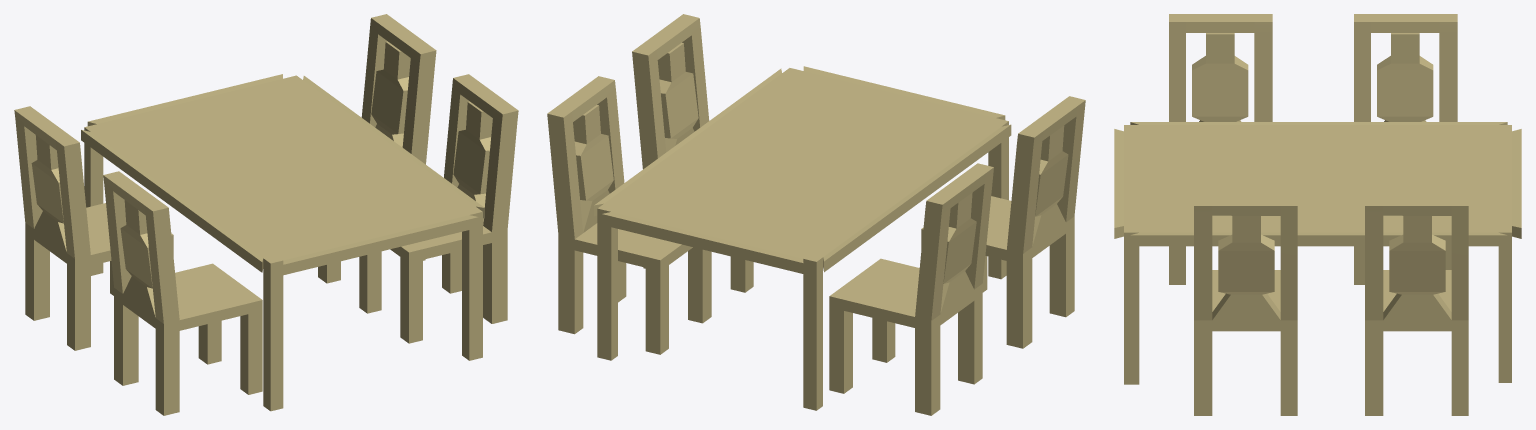
File: Table Chairs.fbx
3 views of the same model, side by side, from view 1: azimuth 30°, elevation 25°; view 2: azimuth 150°, elevation 25°; view 3: azimuth 270°, elevation 25° (orthographic). The views are drawn at different scales.
Visible parts, largest first — view 1: pCube1, pCube2, pCube5, pCube3, pCube4; view 2: pCube1, pCube3, pCube4, pCube2, pCube5; view 3: pCube1, pCube4, pCube5, pCube2, pCube3.
Boxes of the visible parts, x1,y1,x2,y2 form: pCube1: (81,74,484,411); pCube2: (103,171,262,415); pCube5: (359,74,518,343); pCube3: (14,106,173,350); pCube4: (318,14,436,283); pCube1: (594,66,1011,410); pCube3: (829,163,993,415); pCube4: (547,76,711,354); pCube2: (921,96,1085,348); pCube5: (632,14,753,292); pCube1: (1114,122,1521,384); pCube4: (1365,198,1468,415); pCube5: (1194,198,1297,415); pCube2: (1169,14,1272,284); pCube3: (1354,14,1457,284).
Size of the model in its own units: 14.56 by 7.65 by 13.06.
